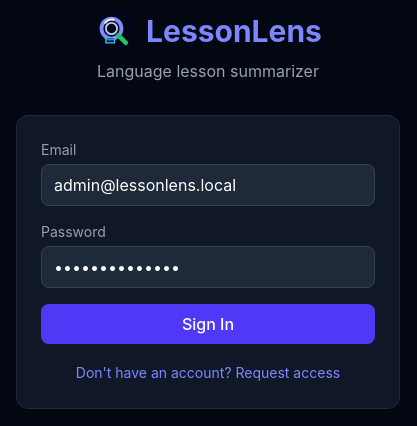
Scenario: LoginPage › disables button while loading
Clear the field: point(208, 185) [41,164,375,206]
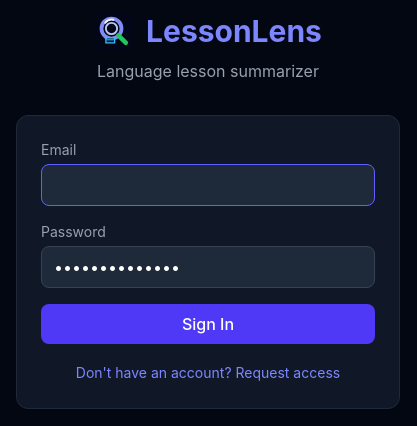
Clear the password field: point(208, 267) [41,246,375,288]
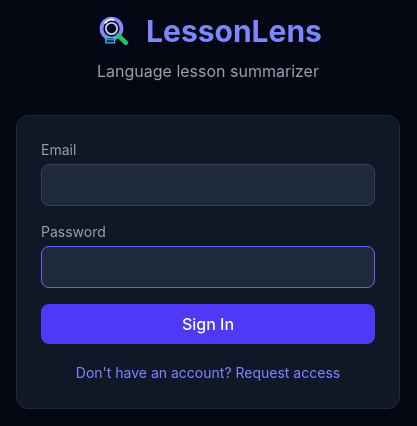
In the field: point(208, 185) [41,164,375,206], type "test@test.com"
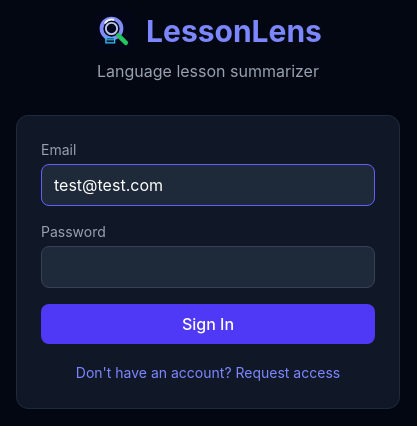
In the password field: point(208, 267) [41,246,375,288], type "password"
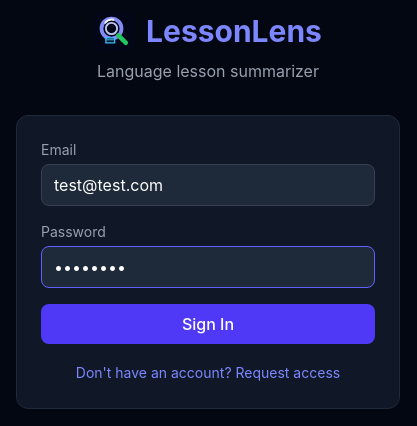
Click the button "Sign In": point(208, 324) [41,304,375,344]
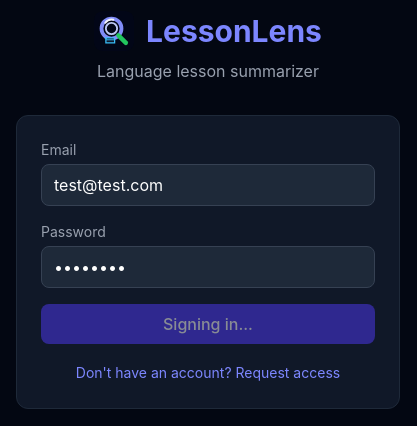
Check: the button is disabled, box [41,304,375,344]
